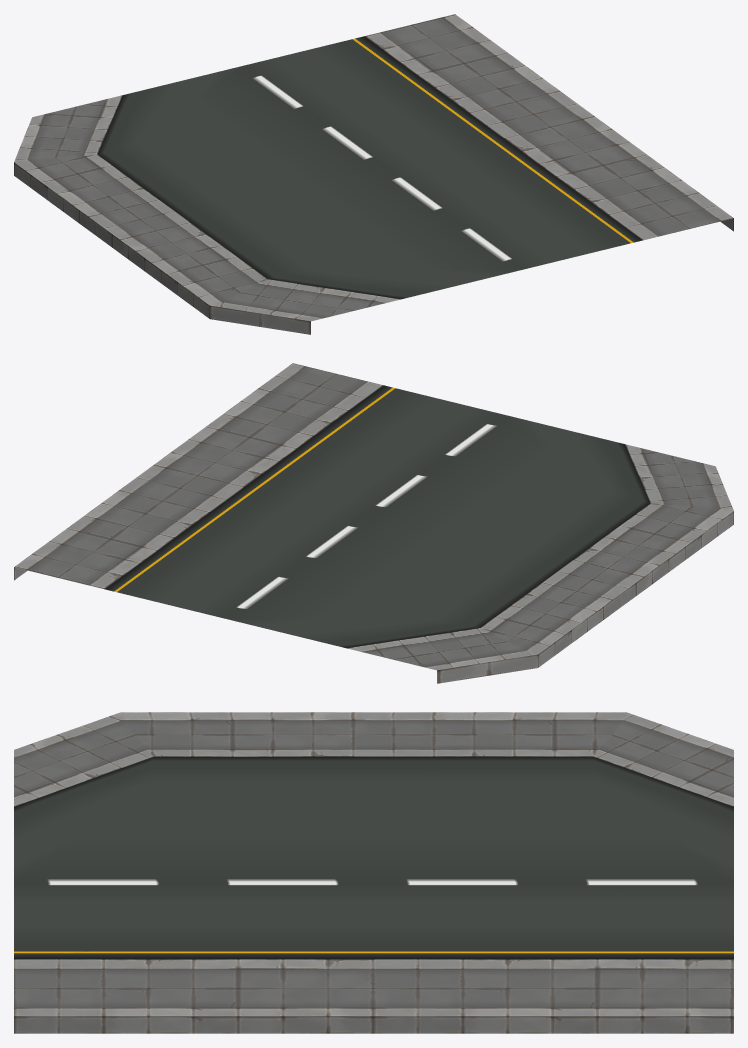
The model's file is Road9.fbx.
The picture shows the model from 3 angles, top to bottom: view 1: azimuth 30°, elevation 25°; view 2: azimuth 150°, elevation 25°; view 3: azimuth 270°, elevation 25°; orthographic projection. The views are drawn at different scales.
Parts seen in each view (by area): view 1: polySurface40; view 2: polySurface40; view 3: polySurface40.
Boxes of the visible parts, x1=… form: polySurface40: x1=14, y1=14, x2=733, y2=334; polySurface40: x1=14, y1=363, x2=733, y2=683; polySurface40: x1=14, y1=712, x2=733, y2=1033.
Size of the model in its own units: 11.99 by 0.3198 by 12.
